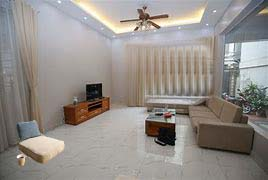copymove: (107, 133, 132, 163)
removal: (118, 44, 143, 107)
spliced: (17, 120, 64, 167)
